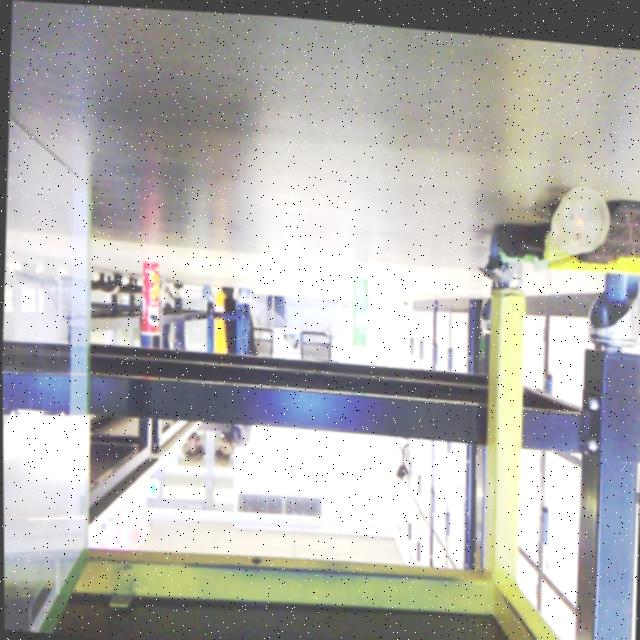greenpringles: (348, 267, 375, 351)
redpringles: (137, 240, 177, 332)
